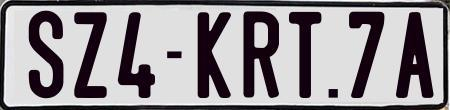4: (117, 9, 159, 99)
7: (348, 12, 384, 102)
A: (394, 12, 431, 100)
K: (198, 12, 231, 102)
R: (242, 8, 284, 95)
S: (28, 10, 64, 98)
T: (287, 11, 323, 99)
Z: (72, 10, 110, 96)
